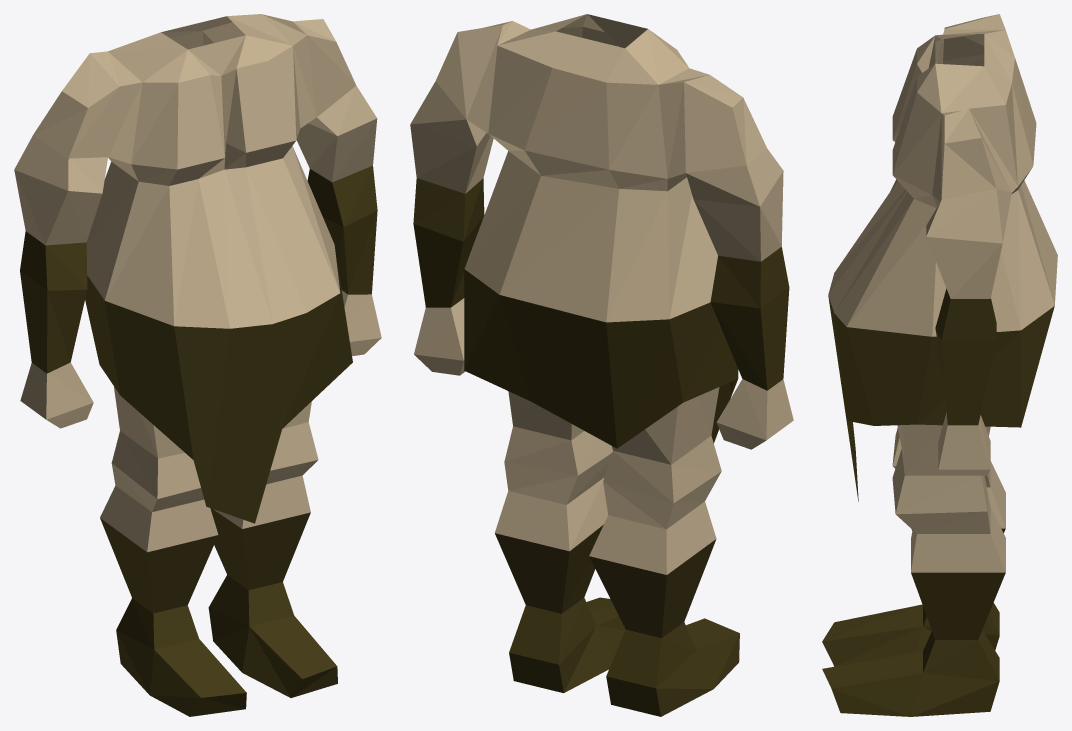
File: model_2878_npc.obj
3 renders of one model, left to right at view 1: azimuth 30°, elevation 25°; view 2: azimuth 150°, elevation 25°; view 3: azimuth 270°, elevation 25°, orthographic. The views are drawn at different scales.
Visible parts, largest first — view 1: 2878; view 2: 2878; view 3: 2878.
Boxes of the visible parts, <box> form: 2878: <box>14,14,381,716</box>; 2878: <box>410,14,793,716</box>; 2878: <box>822,14,1057,716</box>.
Size of the model in its own units: 127 by 226 by 77.
